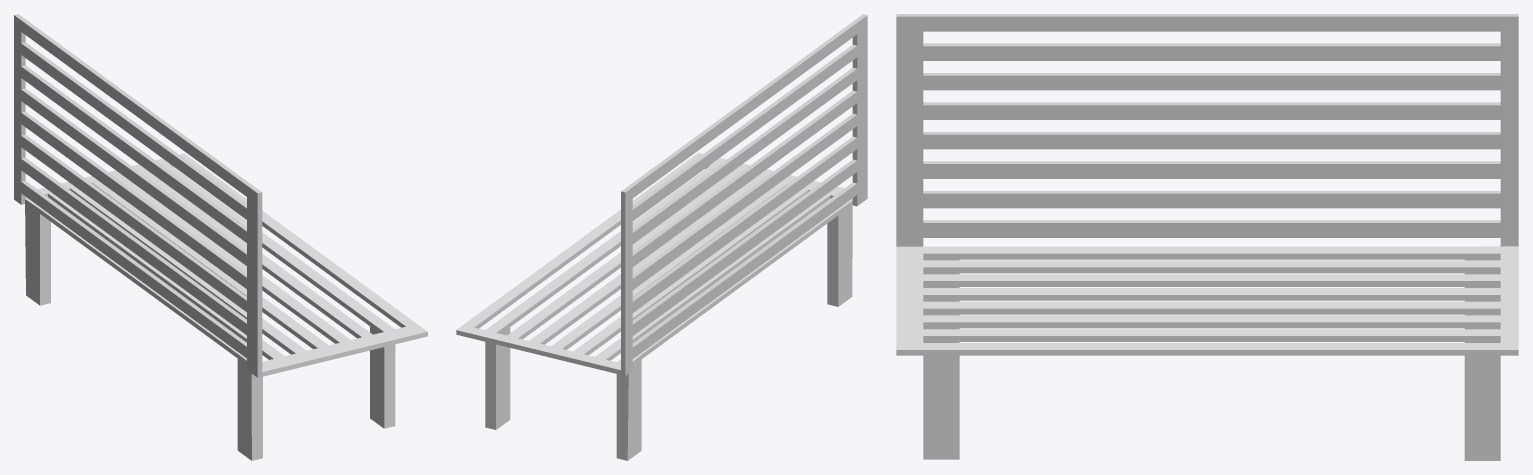
Rendered from park bench.fbx.
3 views of the same model, side by side, from view 1: azimuth 30°, elevation 25°; view 2: azimuth 150°, elevation 25°; view 3: azimuth 270°, elevation 25° (orthographic). The views are drawn at different scales.
Parts seen in each view (by area): view 1: Cube; view 2: Cube; view 3: Cube.
Part boxes in pixels (x1,y1,x2,y2): Cube: (14, 14, 427, 460); Cube: (456, 14, 867, 460); Cube: (896, 14, 1518, 460).
Size of the model in its own units: 411 by 641 by 1020.
